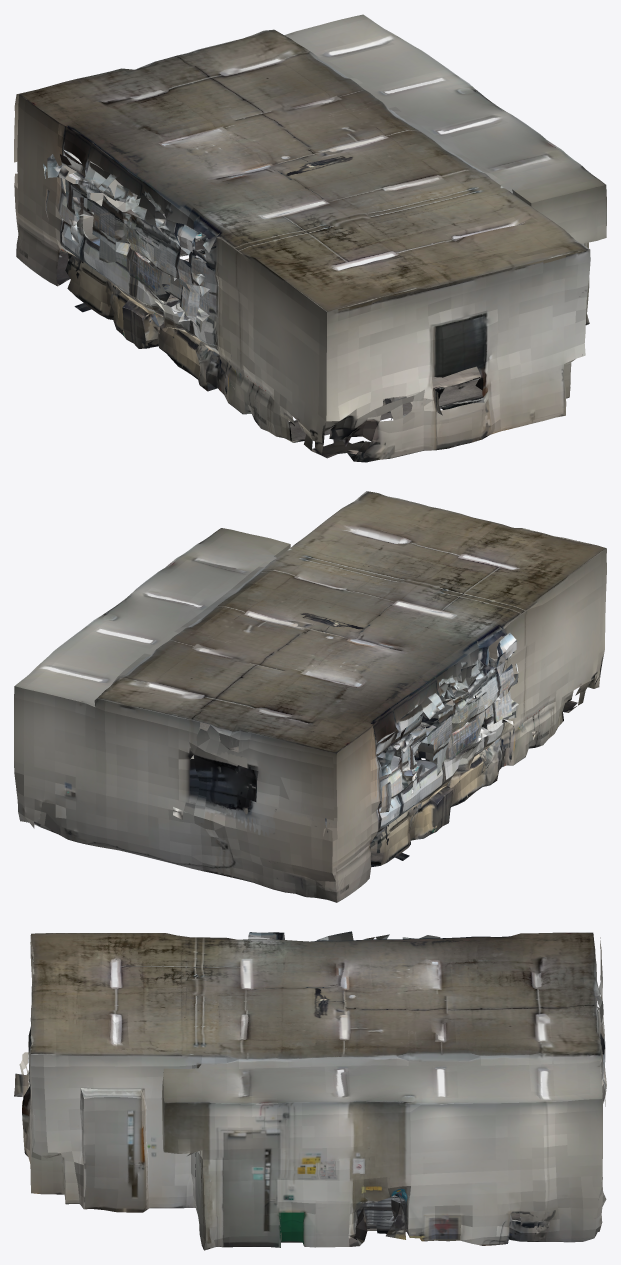
3 views of the same model, one above another, from view 1: azimuth 30°, elevation 25°; view 2: azimuth 150°, elevation 25°; view 3: azimuth 270°, elevation 25° (orthographic). The views are drawn at different scales.
Parts seen in each view (by area): view 1: MG_06-IM; view 2: MG_06-IM; view 3: MG_06-IM.
Boxes of the visible parts, bbox=[...] form: MG_06-IM: bbox=[14, 14, 606, 462]; MG_06-IM: bbox=[14, 491, 606, 902]; MG_06-IM: bbox=[14, 931, 606, 1250].
Size of the model in its own units: 778 by 327 by 1112.
1 material, 1 textured.
